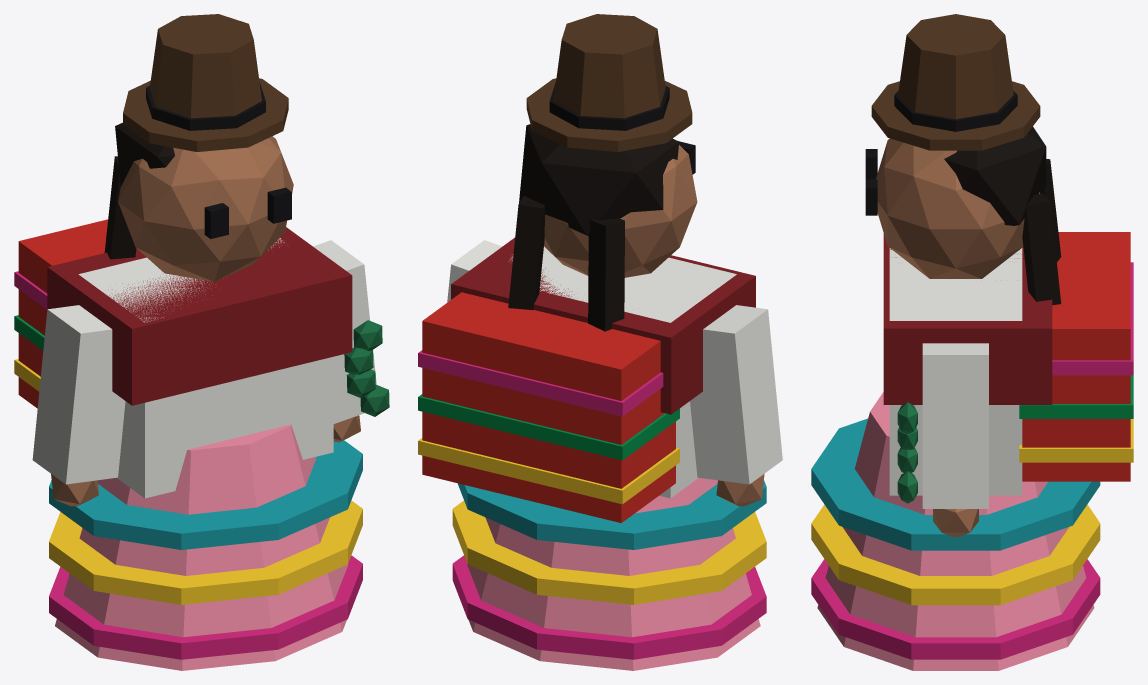
File: Org Curandera.fbx
3 views of the same model, side by side, from view 1: azimuth 30°, elevation 25°; view 2: azimuth 150°, elevation 25°; view 3: azimuth 270°, elevation 25° (orthographic).
Parts seen in each view (by area): view 1: Org Curandera; view 2: Org Curandera; view 3: Org Curandera.
Boxes of the visible parts, x1,y1,x2,y2 form: Org Curandera: (14,14,389,670); Org Curandera: (418,14,782,670); Org Curandera: (811,14,1133,670).
Size of the model in its own units: 0.6021 by 1.07 by 0.535.
